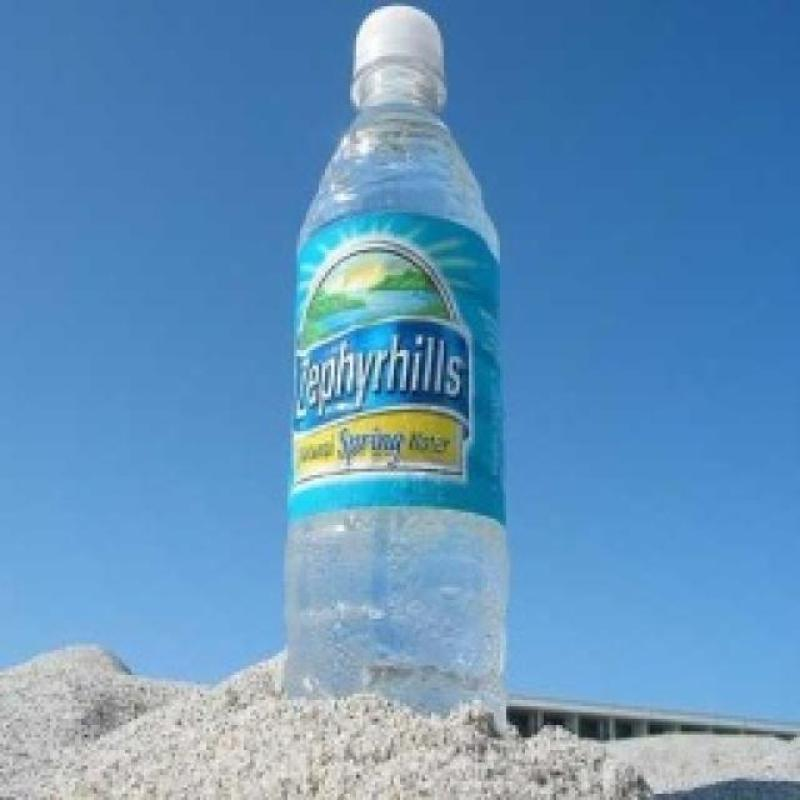botella: (298, 4, 517, 734)
